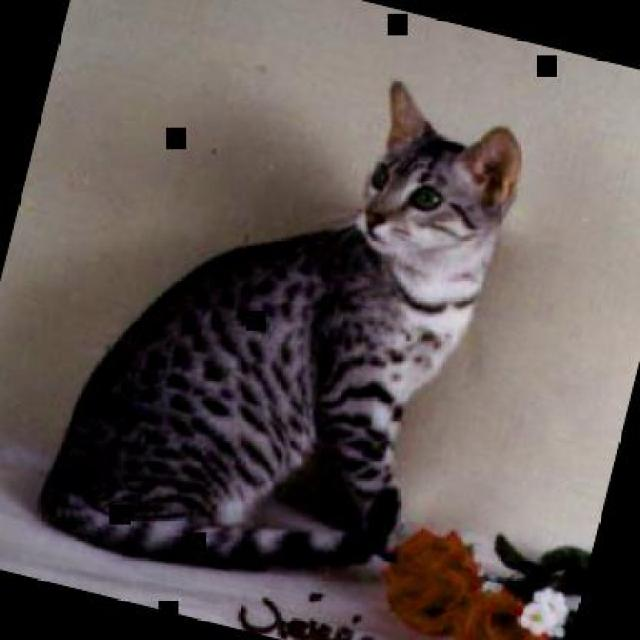cat: (31, 22, 535, 626)
